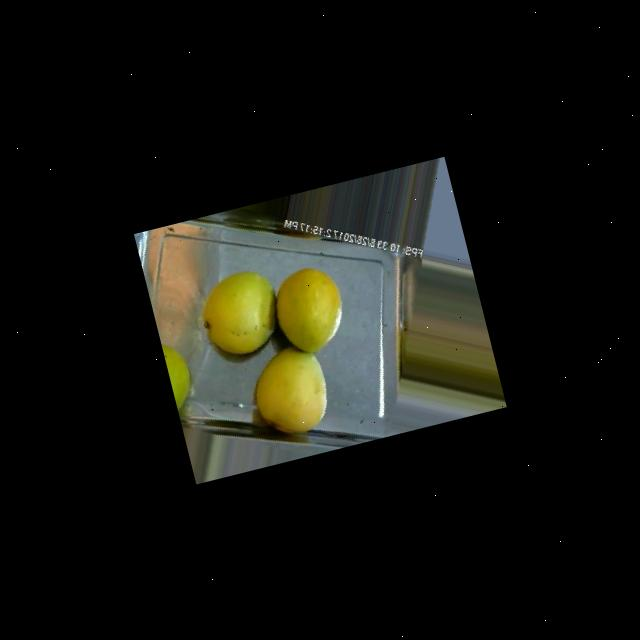Mango: (244, 340, 336, 442), (192, 264, 286, 362), (266, 260, 351, 358), (160, 337, 198, 412)
